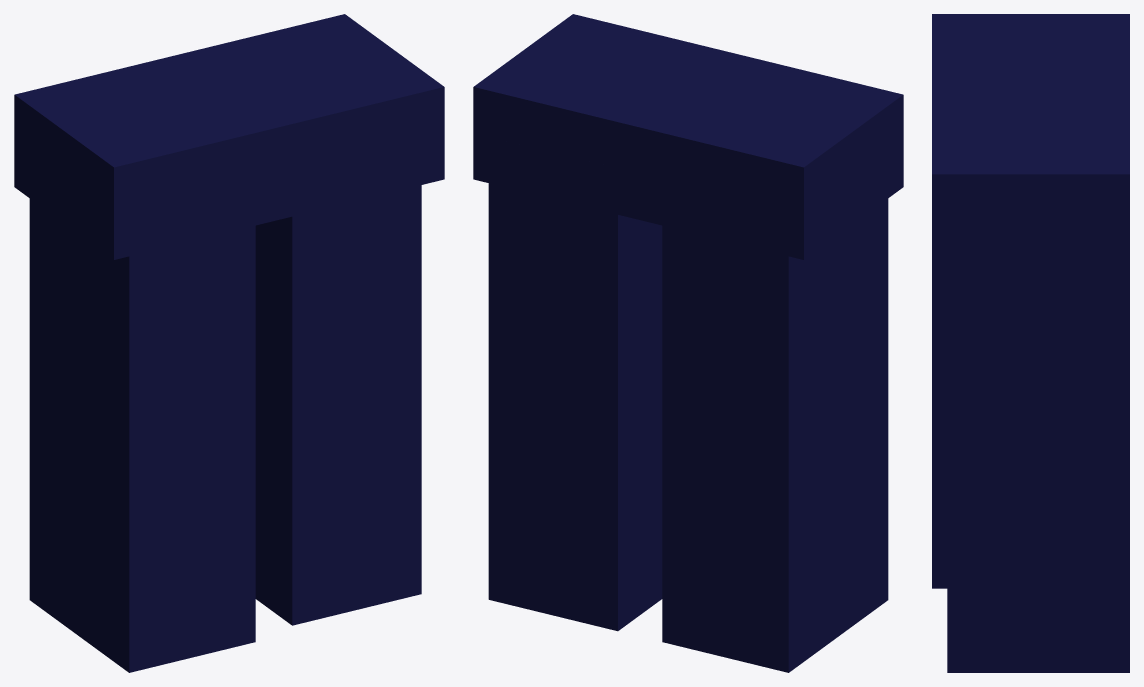
Rendered from pants.fbx.
3 views of the same model, side by side, from view 1: azimuth 30°, elevation 25°; view 2: azimuth 150°, elevation 25°; view 3: azimuth 270°, elevation 25° (orthographic).
Visible parts, largest first — view 1: mergedBlocks; view 2: mergedBlocks; view 3: mergedBlocks.
Boxes of the visible parts, left/top/right/bottom form: mergedBlocks: left=14, top=14, right=444, bottom=672; mergedBlocks: left=473, top=14, right=903, bottom=672; mergedBlocks: left=932, top=14, right=1129, bottom=672.
Bounding box in the file's own units: 7.47 × 11 × 3.9.
